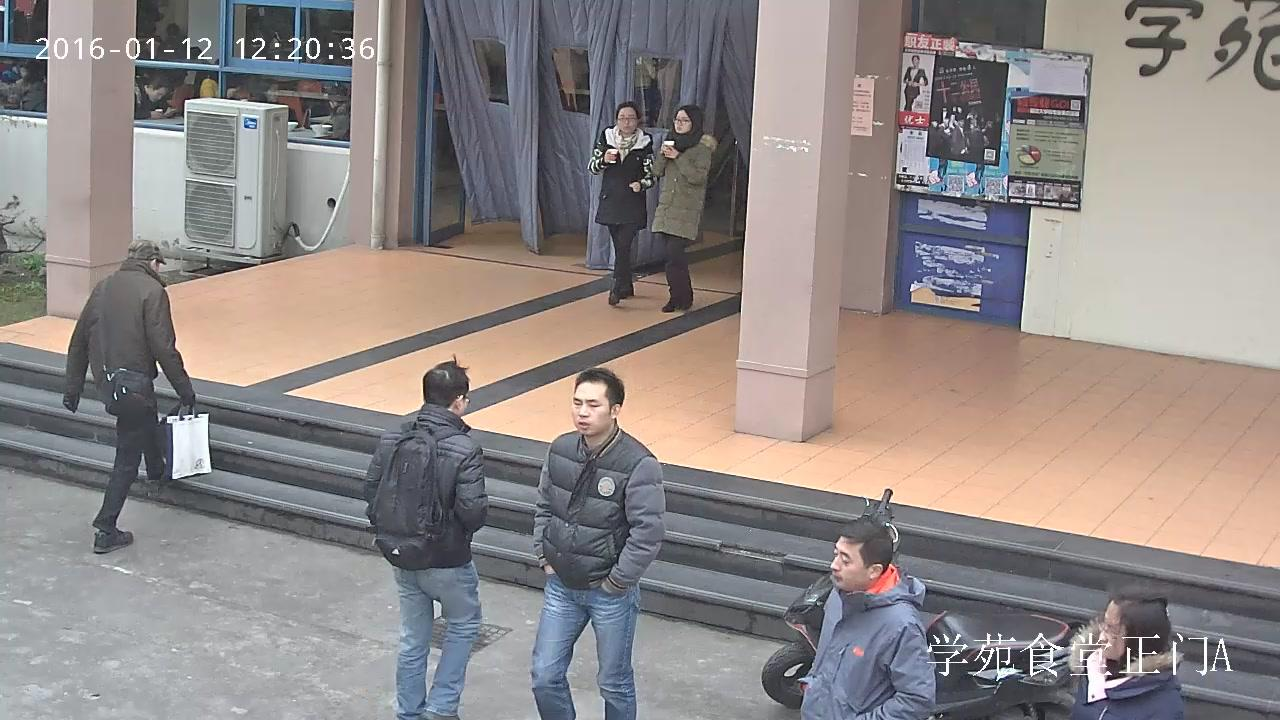person: (531, 367, 667, 720), (64, 239, 212, 554), (364, 354, 491, 720), (801, 518, 936, 720), (1067, 591, 1185, 719), (651, 103, 717, 312), (587, 102, 652, 306), (5, 57, 45, 110), (134, 70, 176, 118), (322, 85, 349, 140), (903, 54, 928, 111)
